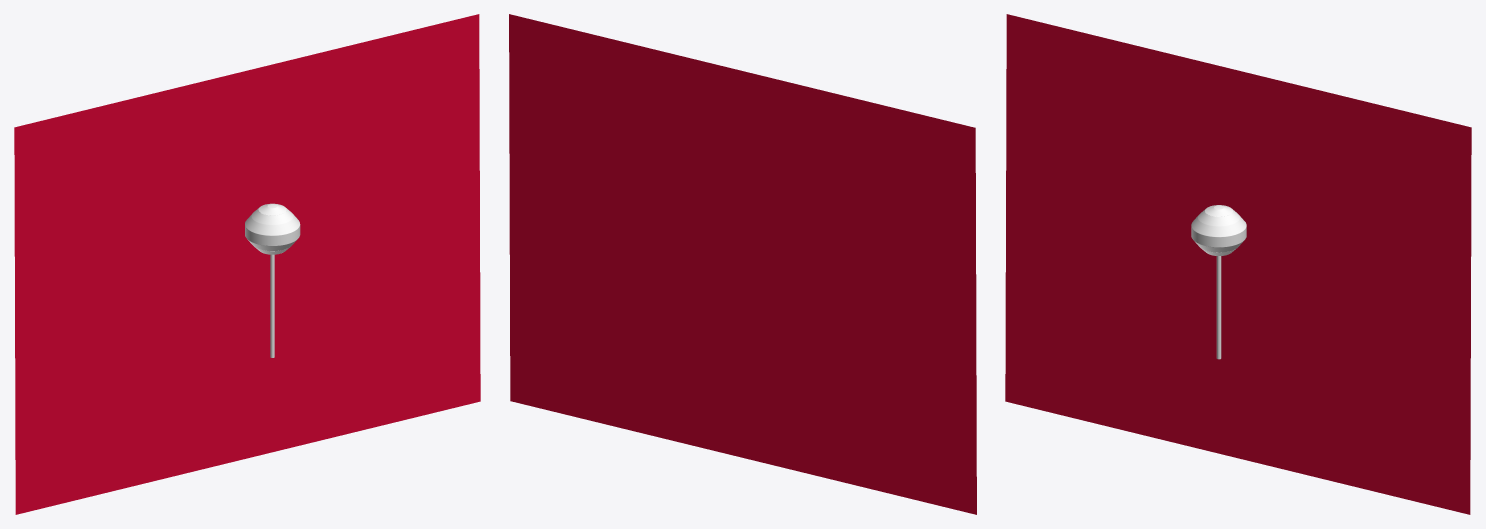
The model's file is Candy.glb.
The picture shows the model from 3 angles, left to right: view 1: azimuth 30°, elevation 25°; view 2: azimuth 150°, elevation 25°; view 3: azimuth 330°, elevation 25°; orthographic projection.
Visible parts, largest first — view 1: Plane, Sphere; view 2: Plane; view 3: Plane, Sphere, Cylinder.
Boxes of the visible parts, bbox=[...] form: Plane: bbox=[14, 14, 480, 514]; Sphere: bbox=[245, 203, 300, 254]; Plane: bbox=[509, 14, 976, 514]; Plane: bbox=[1005, 14, 1471, 514]; Sphere: bbox=[1191, 205, 1246, 255]; Cylinder: bbox=[1216, 256, 1221, 359].
Bounding box in the file's own units: 18.35 × 14.58 × 2.51.
